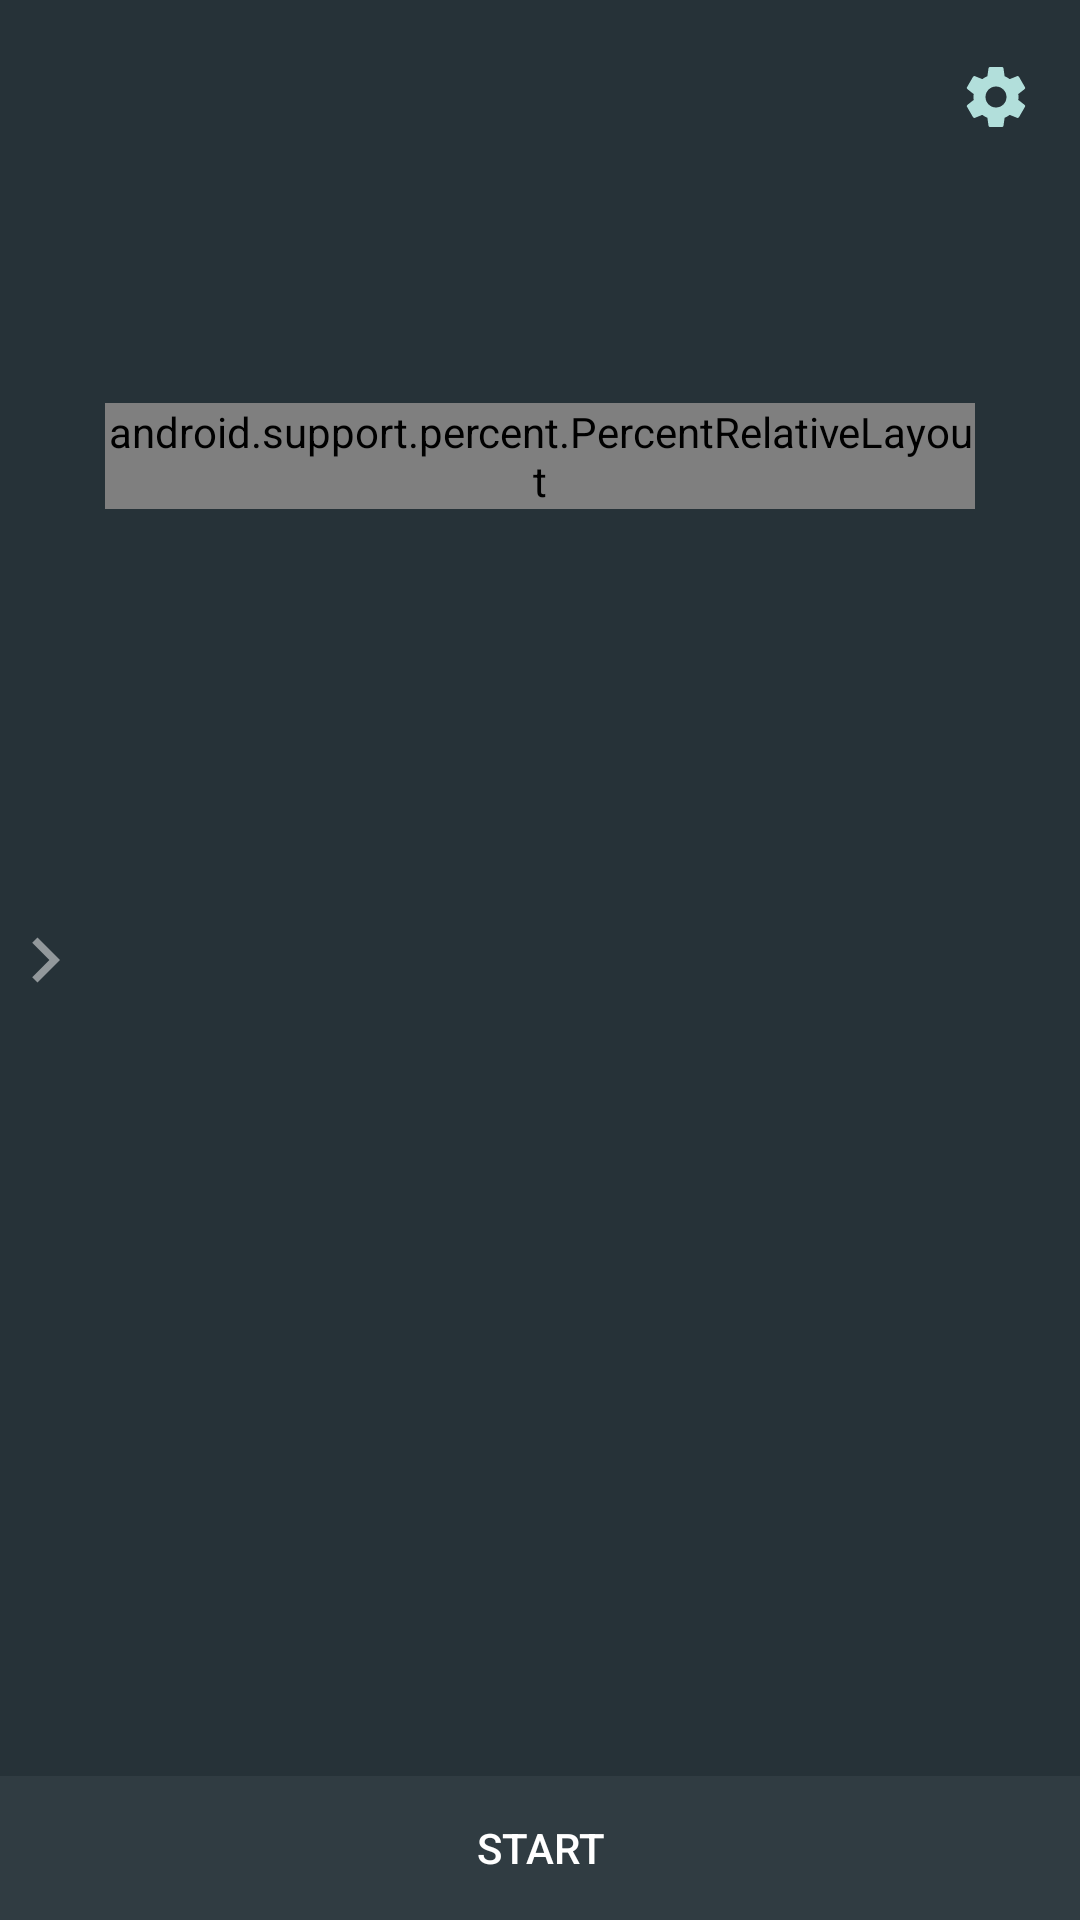

Screen size 1080w x 1920h. Icon name, then its center in pixels as [x,y]:
settings: [996,97]
to right: [46,960]
